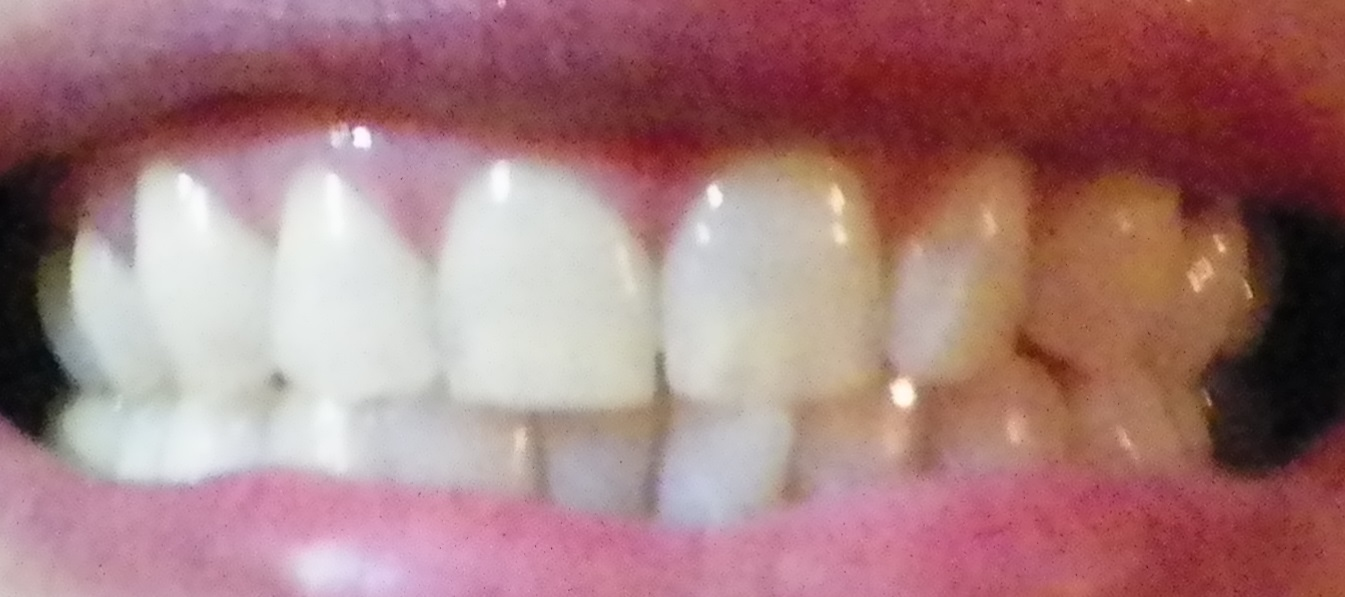boca: (41, 170, 1239, 480)
